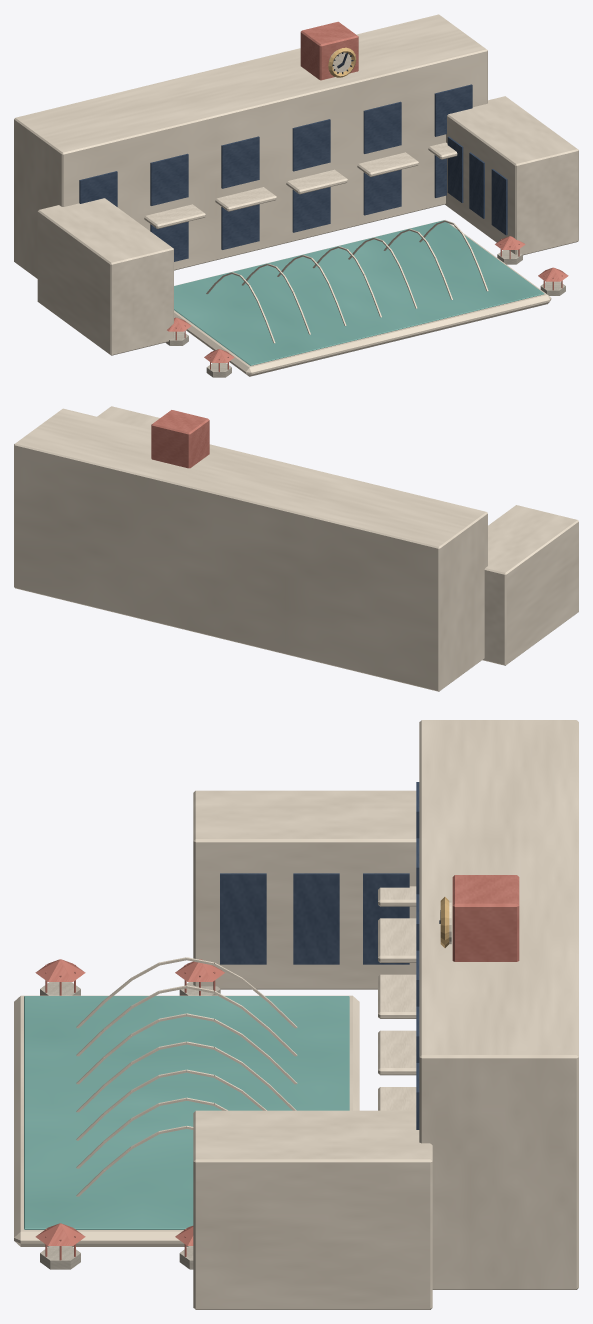
File: cairo-festival-city.glb
3 views of the same model, one above another, from view 1: azimuth 30°, elevation 25°; view 2: azimuth 150°, elevation 25°; view 3: azimuth 270°, elevation 25° (orthographic). The views are drawn at different scales.
Visible parts, largest first — view 1: cairo-festival-city; view 2: cairo-festival-city; view 3: cairo-festival-city.
Part boxes in pixels (<box>): cairo-festival-city: <box>14,14,578,377</box>; cairo-festival-city: <box>14,406,578,691</box>; cairo-festival-city: <box>14,720,578,1309</box>.
Size of the model in its own units: 13.2 by 4.97 by 8.5.
Materials: 1 (1 with a texture image).
